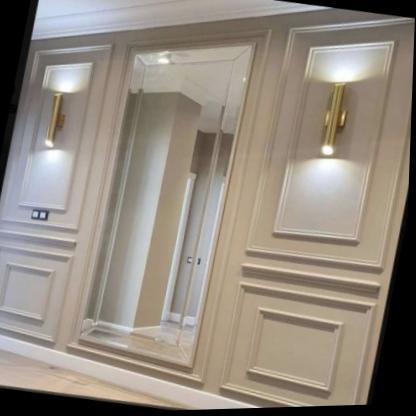Futec frame: (219, 20, 415, 411), (64, 23, 271, 382), (0, 38, 119, 241), (0, 237, 77, 357)
